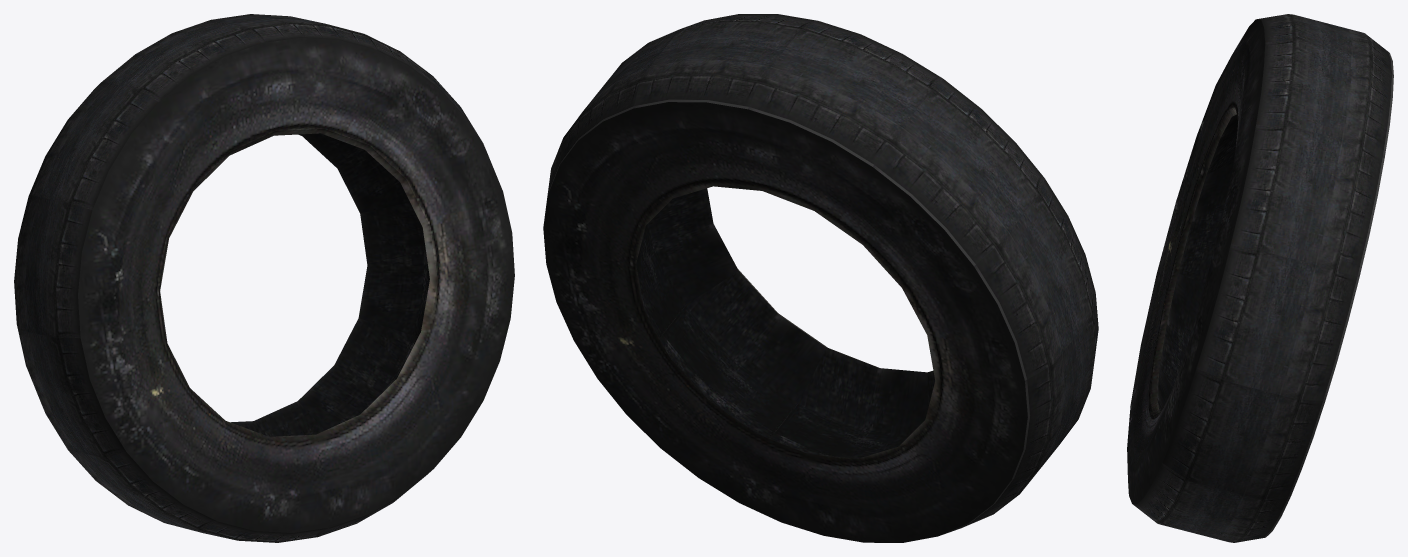
File: tire 2.FBX
3 renders of one model, left to right at view 1: azimuth 30°, elevation 25°; view 2: azimuth 150°, elevation 25°; view 3: azimuth 270°, elevation 25°, orthographic. The views are drawn at different scales.
Visible parts, largest first — view 1: Mesh_0081; view 2: Mesh_0081; view 3: Mesh_0081.
Part boxes in pixels (x1=…): Mesh_0081: x1=14, y1=14, x2=514, y2=542; Mesh_0081: x1=543, y1=14, x2=1098, y2=542; Mesh_0081: x1=1127, y1=14, x2=1393, y2=542.
Size of the model in its own units: 32.4 by 32.41 by 16.36.
